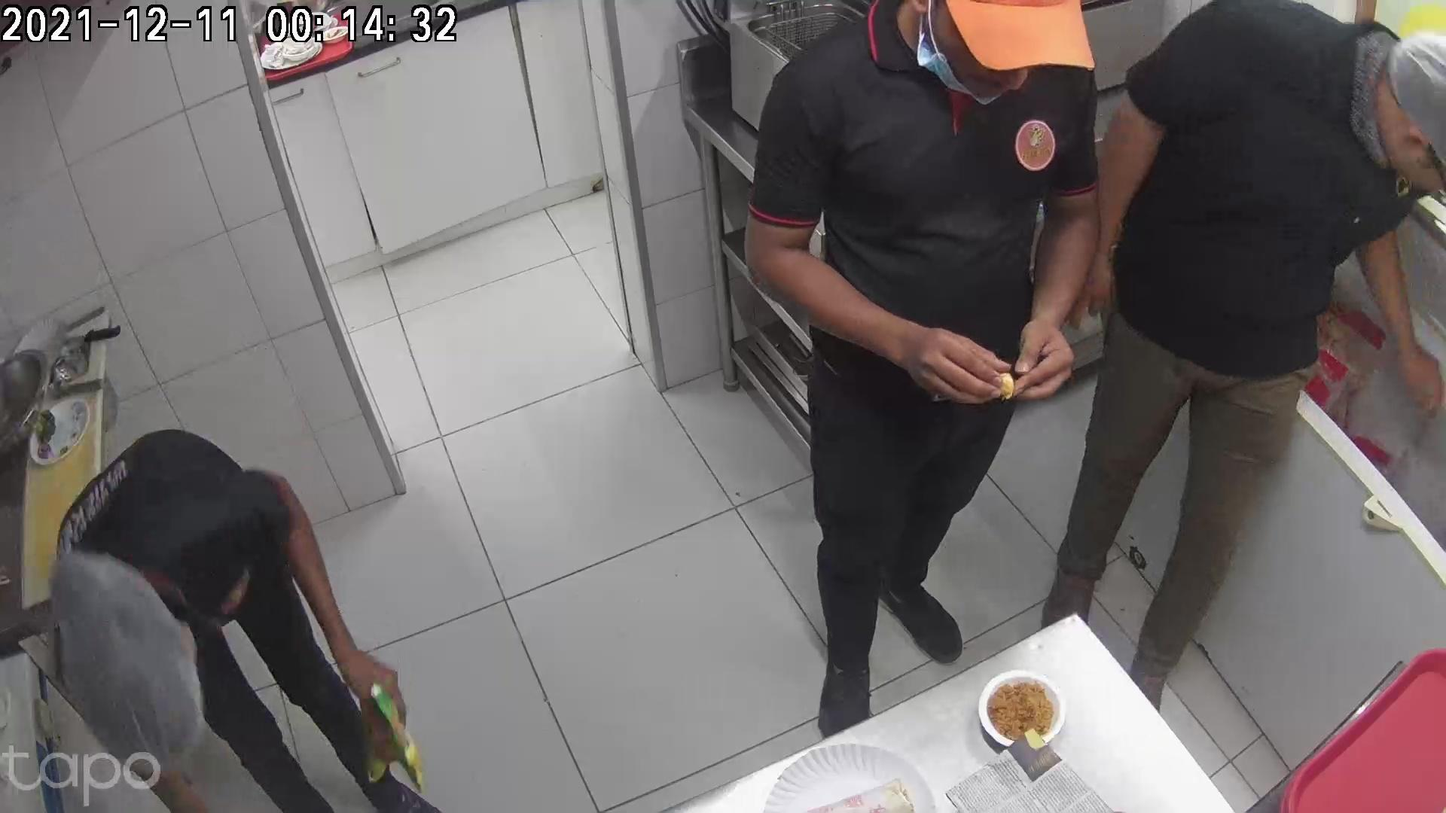no_gloves: (681, 249, 828, 353)
